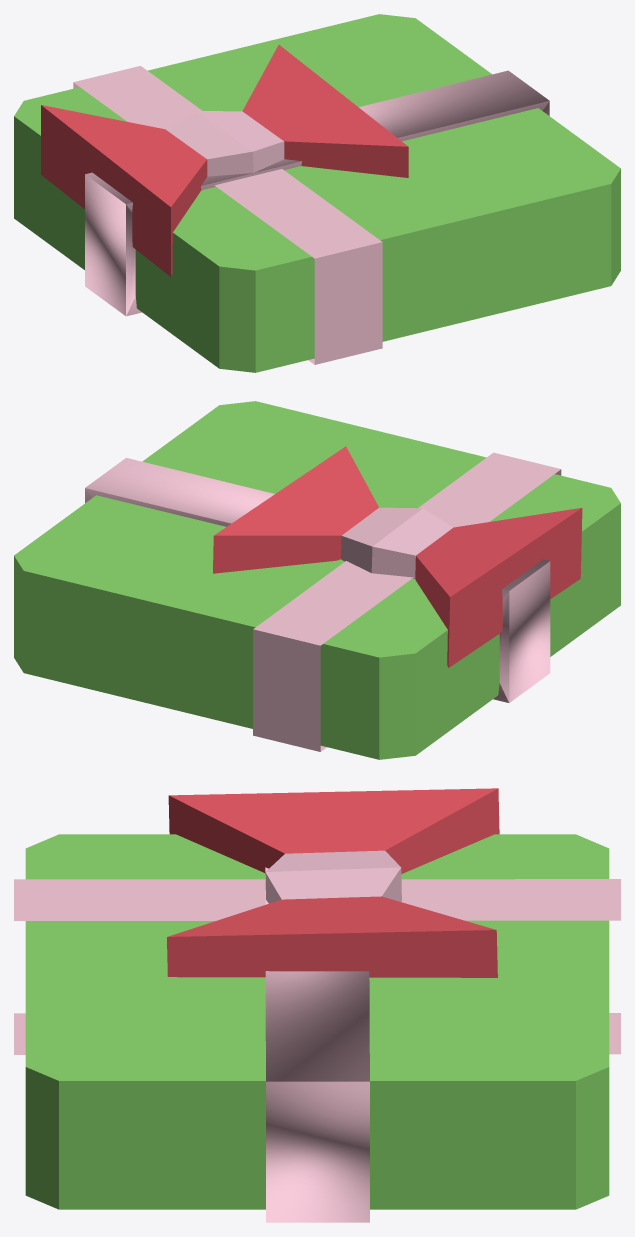
Rendered from gift_2 (1).fbx.
3 views of the same model, one above another, from view 1: azimuth 30°, elevation 25°; view 2: azimuth 150°, elevation 25°; view 3: azimuth 270°, elevation 25° (orthographic). The views are drawn at different scales.
Visible parts, largest first — view 1: Cube.111; view 2: Cube.111; view 3: Cube.111.
Part boxes in pixels (<box>): Cube.111: <box>14,14,620,372</box>; Cube.111: <box>14,401,620,759</box>; Cube.111: <box>14,788,620,1222</box>.
Size of the model in its own units: 109 by 35.53 by 107.
